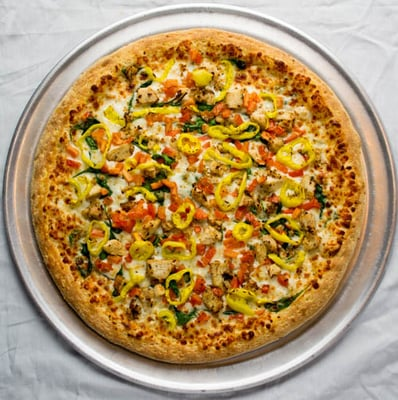curry: (3, 0, 396, 352)
sandwich: (16, 6, 375, 367)
